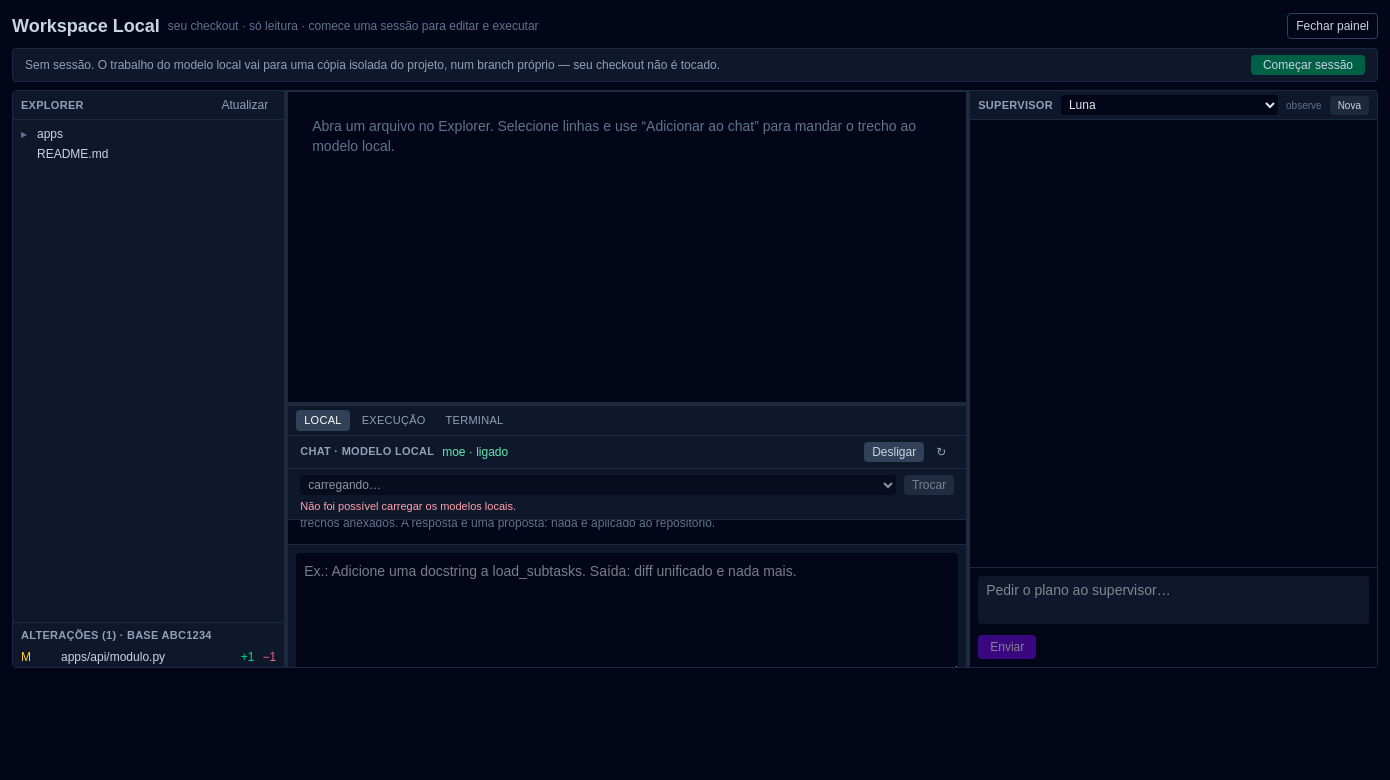
Scenario: Workspace Local › começa a sessão ligada à task, mostra o branch e abre o diff da sessão
The width and height of the screenshot is (1390, 780).
(page scrolled)
Click the button "Começar sessão": click(1308, 65) [1251, 55, 1365, 75]
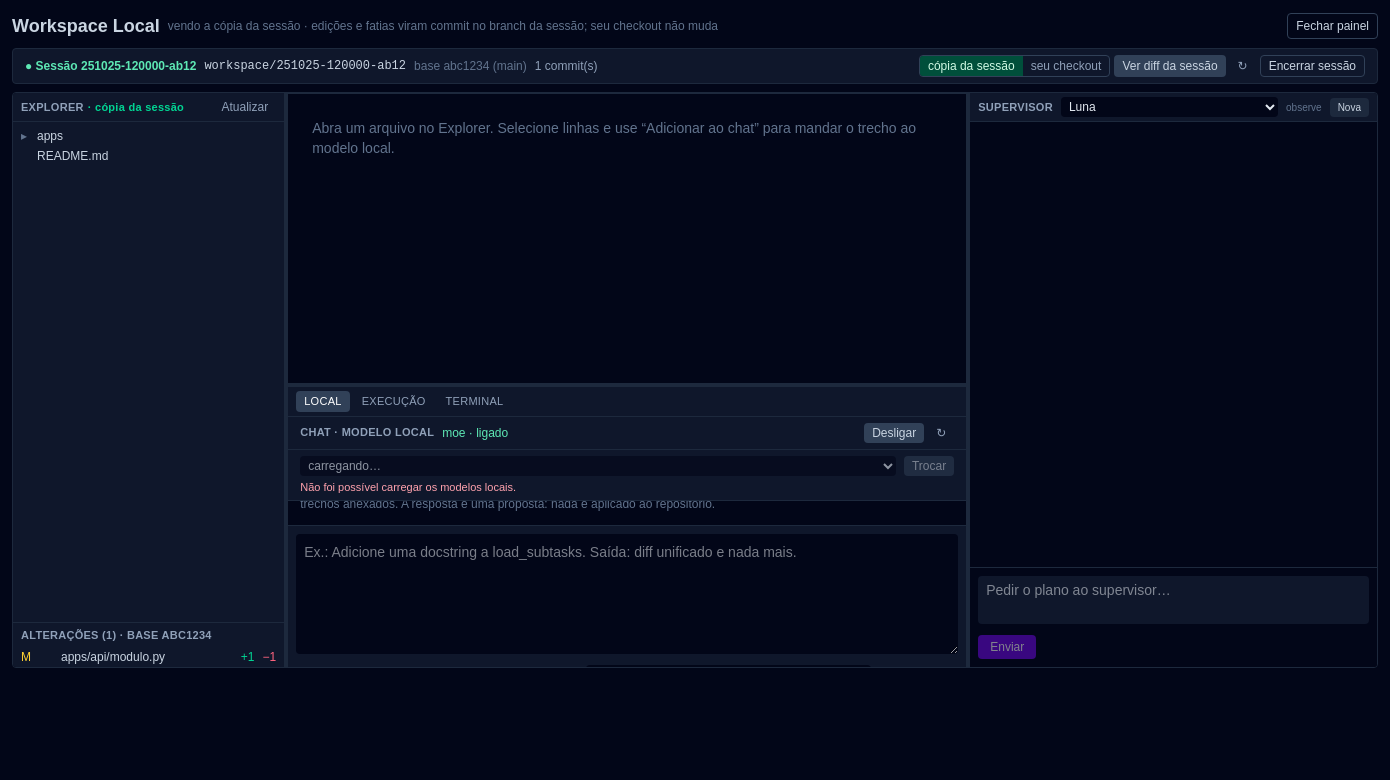
Check: the text "workspace/251025-120000-ab12" is shown, box [204, 58, 406, 74]
Check: the text "1 commit(s)" is shown, box [535, 58, 598, 74]
Click the button "Ver diff da sessão": click(1170, 66) [1114, 55, 1226, 77]
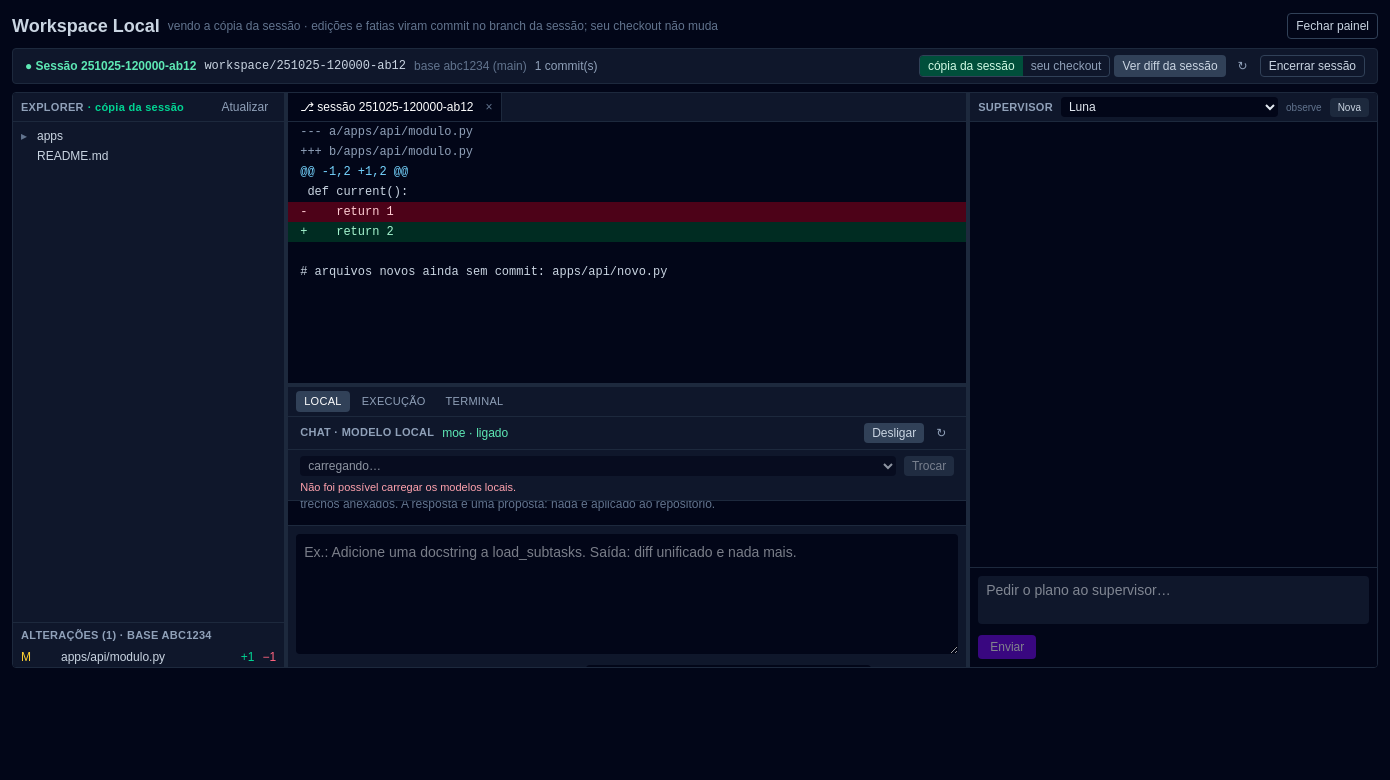
Check: the element named "Diff da sessão 251025-120000-ab12" shows "+ return 2", box [300, 225, 394, 239]
Check: the element named "Diff da sessão 251025-120000-ab12" shows "apps/api/novo.py", box [300, 265, 668, 279]
